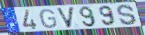4: (22, 9, 39, 31)
9: (78, 5, 98, 28), (98, 5, 117, 27)
G: (39, 8, 58, 29)
S: (116, 3, 138, 26)
V: (55, 6, 75, 29)
